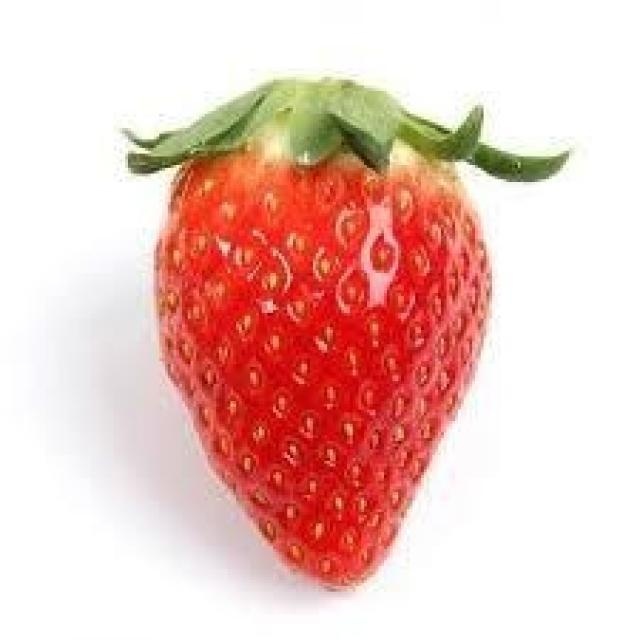Healthy Fruit: (120, 73, 570, 591)
